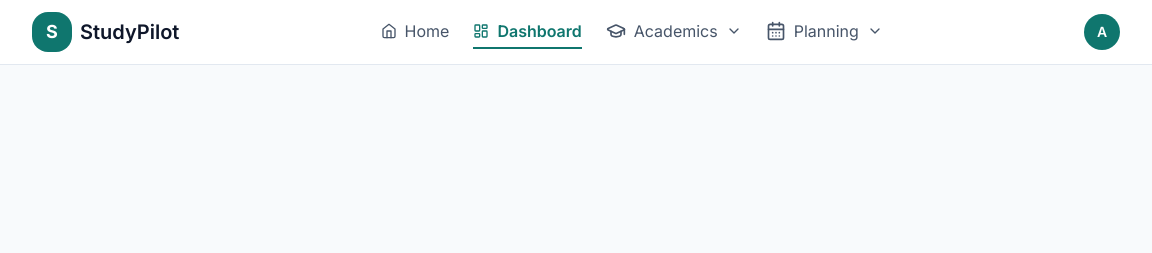
Test: Header desktop grouped navigation (EP11A) › hides Verify email in the account menu for a verified user
What coordinates should you click on to do the following:
click the button named "Open account menu"
I would click on:
 (1102, 32)
Its box is [1084,14,1120,50].
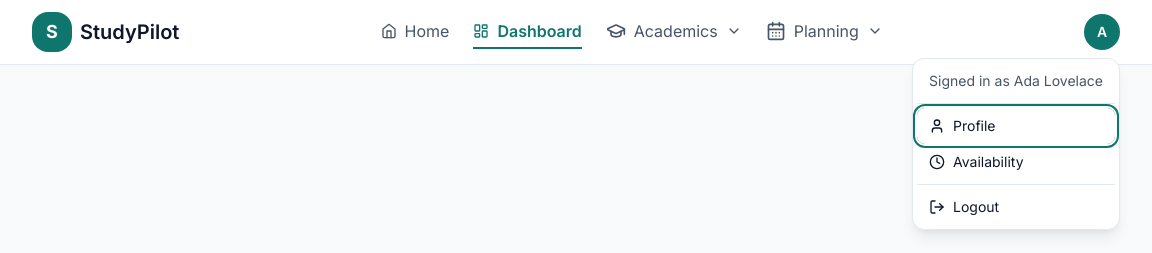
Expected: the menu item "Profile" is shown, [917,108,1115,144]
Expected: the menu item "Logout" is shown, [917,189,1115,225]
